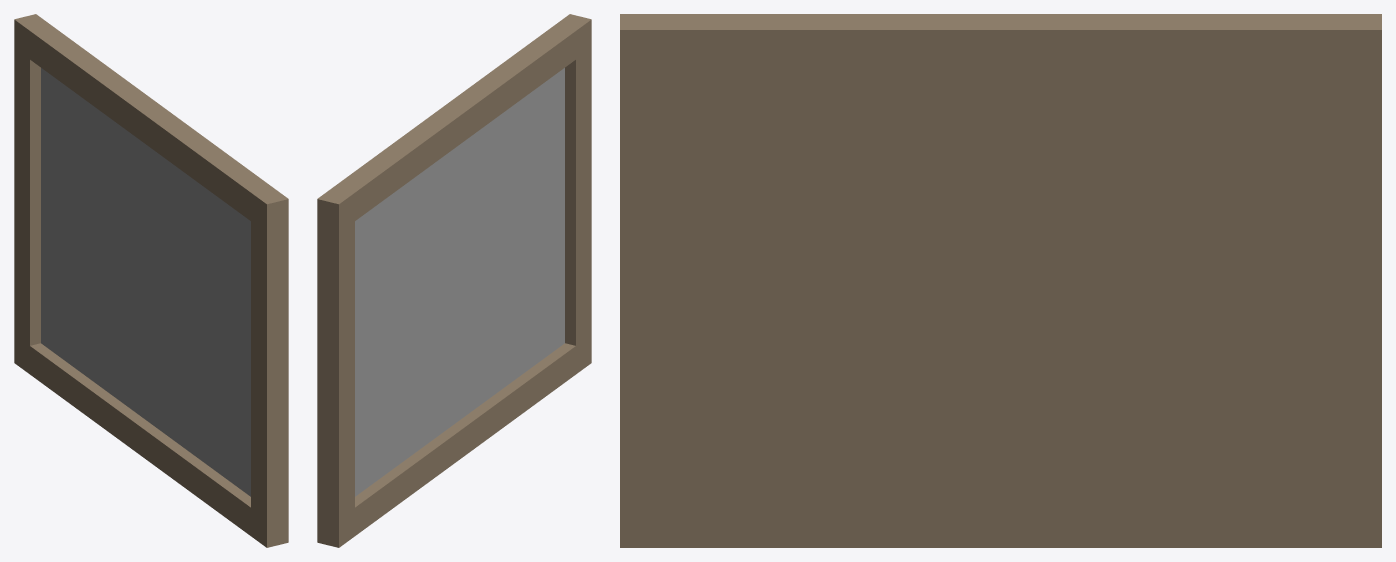
The model's file is Painting_M_SM.fbx.
The picture shows the model from 3 angles, left to right: view 1: azimuth 30°, elevation 25°; view 2: azimuth 150°, elevation 25°; view 3: azimuth 270°, elevation 25°; orthographic projection. The views are drawn at different scales.
Parts seen in each view (by area): view 1: Tavla_M; view 2: Tavla_M; view 3: Tavla_M.
Boxes of the visible parts, box(x1,y1,x2,y2) form: Tavla_M: box(14, 14, 288, 547); Tavla_M: box(317, 14, 591, 547); Tavla_M: box(620, 14, 1381, 547).
Size of the model in its own units: 2 by 30 by 40.
